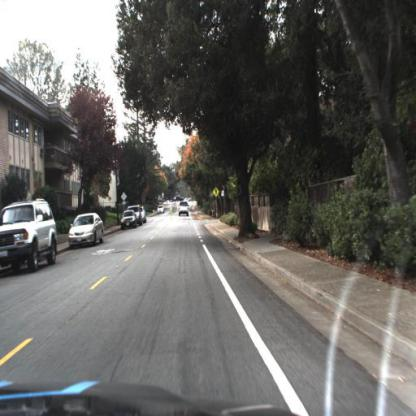car: (1, 199, 60, 276), (68, 210, 105, 246), (121, 208, 139, 229), (178, 199, 190, 221)
